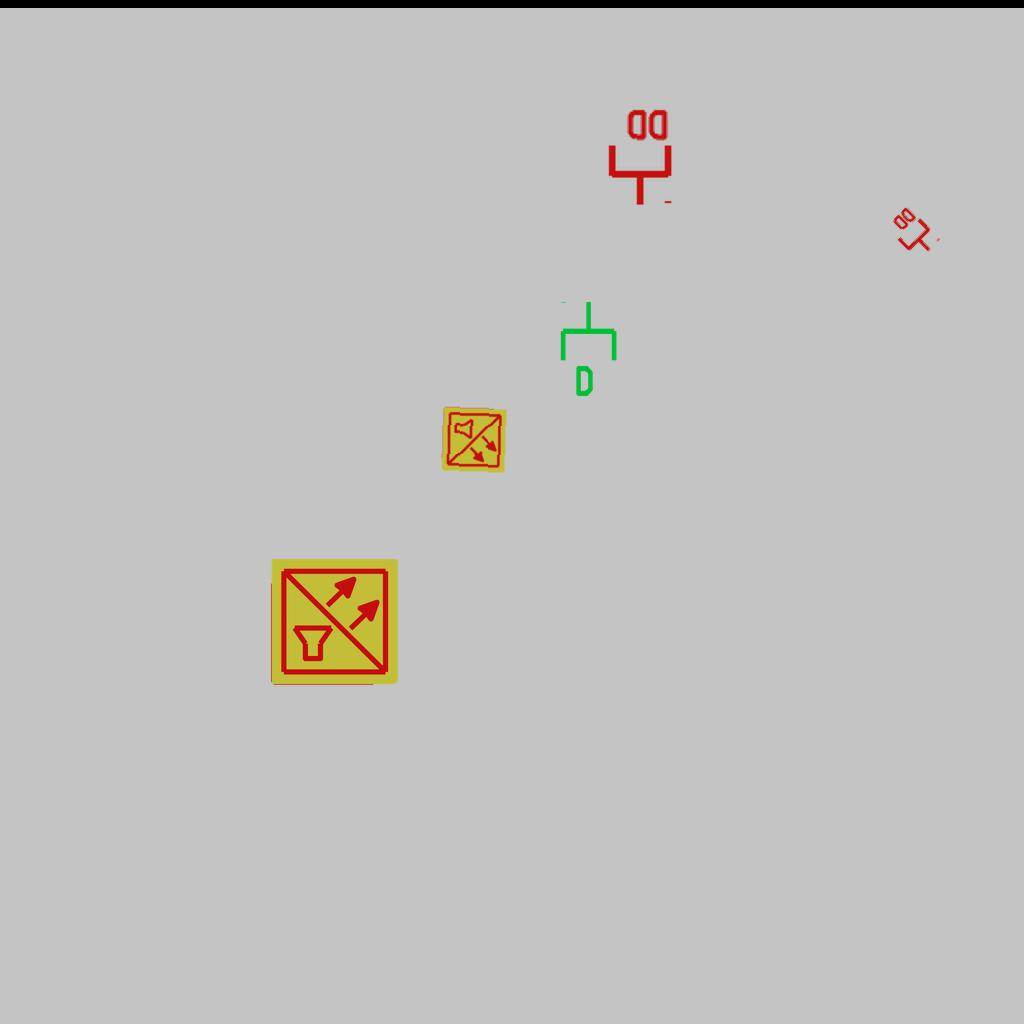Datenanschluss_einfach: (556, 299, 625, 399)
Datenanschluss_zweifach: (604, 105, 673, 208), (882, 203, 942, 264)
OKW_Multisensormelder_(Kombination_optischer_Rauch-Kahlenmonoxid_Waerme-Melder): (269, 556, 401, 688), (439, 405, 509, 475)
